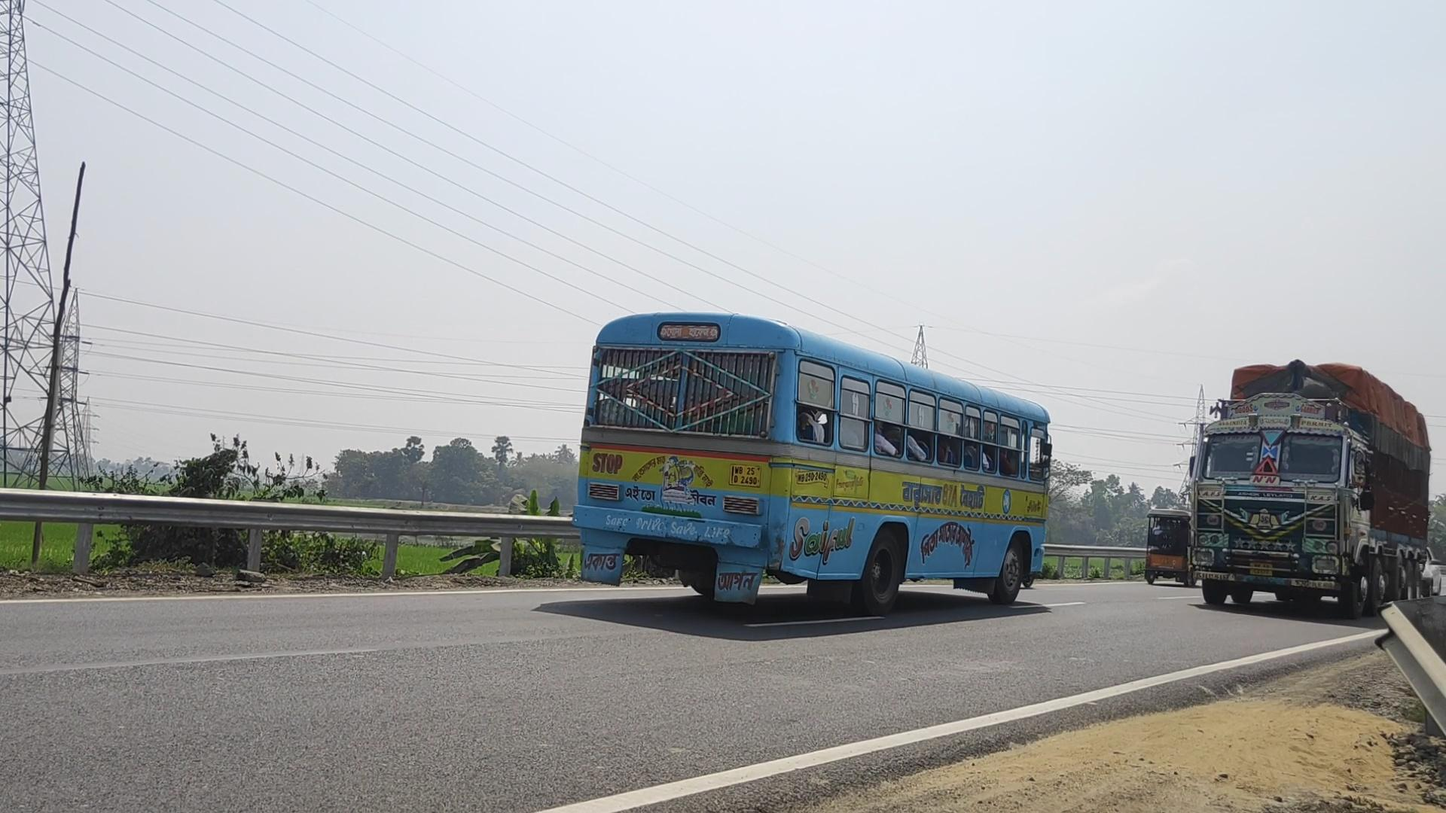Auto: (1143, 507, 1199, 584)
Bus: (572, 311, 1052, 615)
truck: (1188, 359, 1431, 620)
